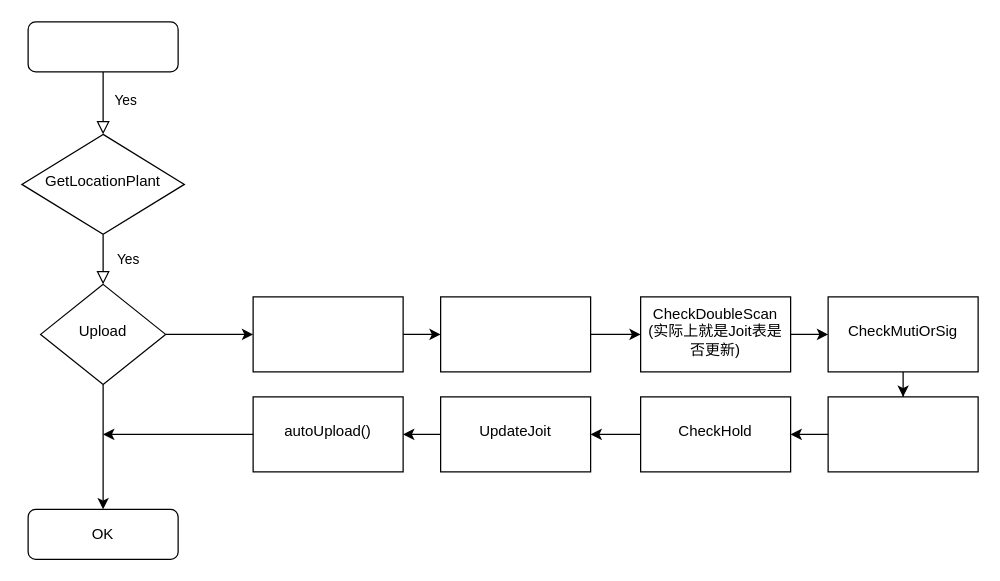
Some shapes in this 1000 by 581 pixel diagram are drawn without their labels. Each missing label, with the box of its shape:
CheckClimat: (827, 396, 978, 472)
CheckUploadQty: (439, 296, 591, 372)
CheckWeightheader (PalletInfor): (252, 296, 403, 372)
UploadSDBy Pallid: (27, 21, 178, 72)
